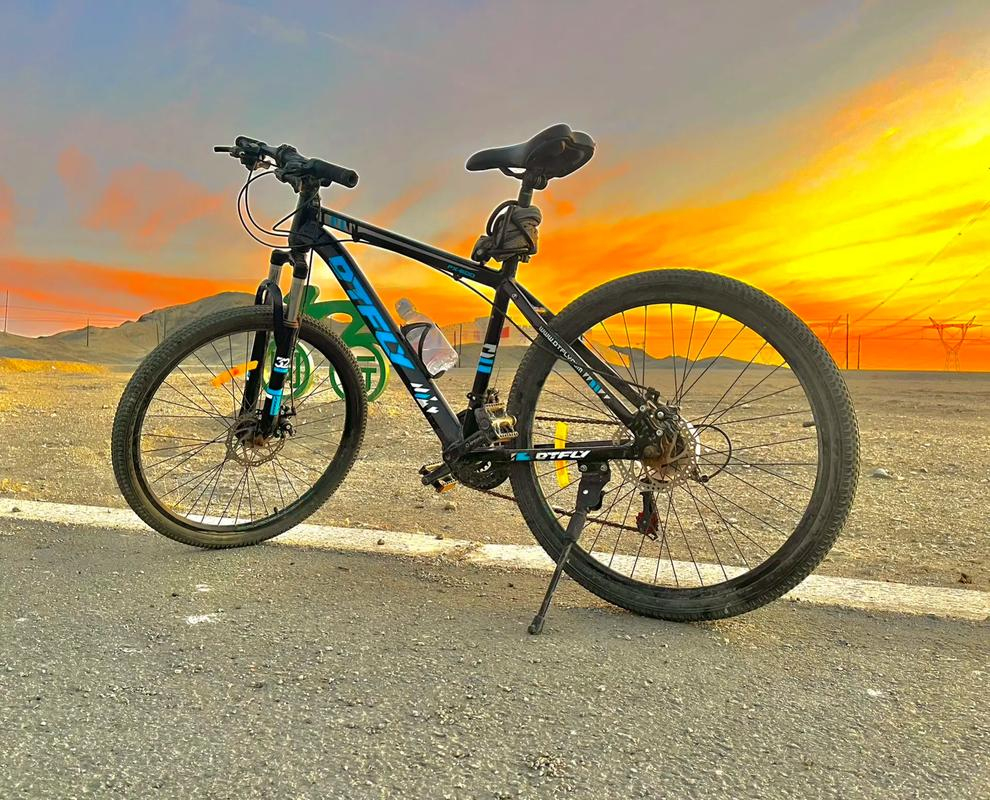单车: (102, 125, 867, 652)
